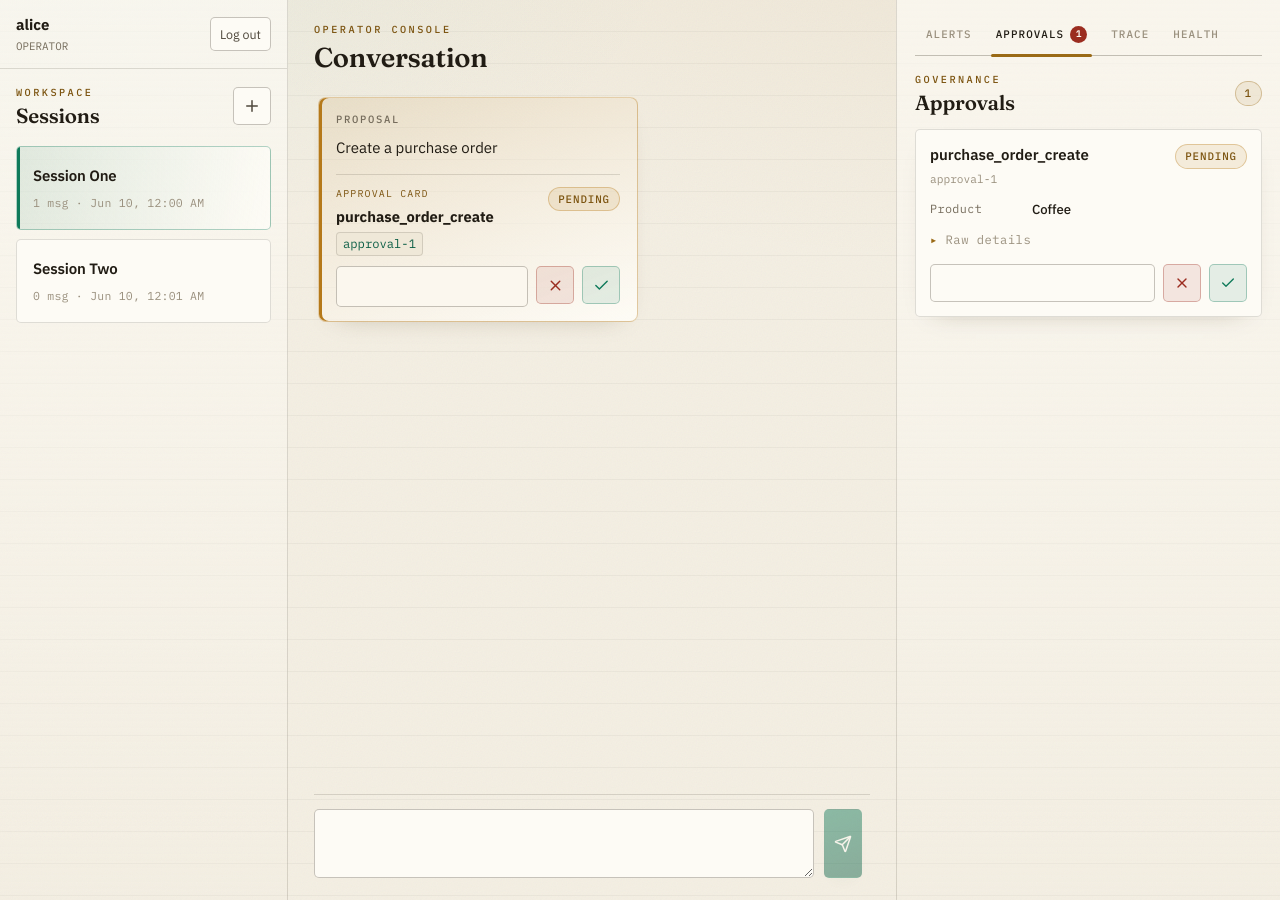
it: App › ignores stale approval reconciliation after switching sessions
The image size is (1280, 900).
Expected: the text "approval-1" is shown 2 times, [336, 232, 423, 256]; [930, 172, 997, 186]
What coordinates should you click on to do the following:
click the button named "Approve" below "Approval card"
I would click on:
 (601, 285)
Its box is [582, 266, 620, 304].
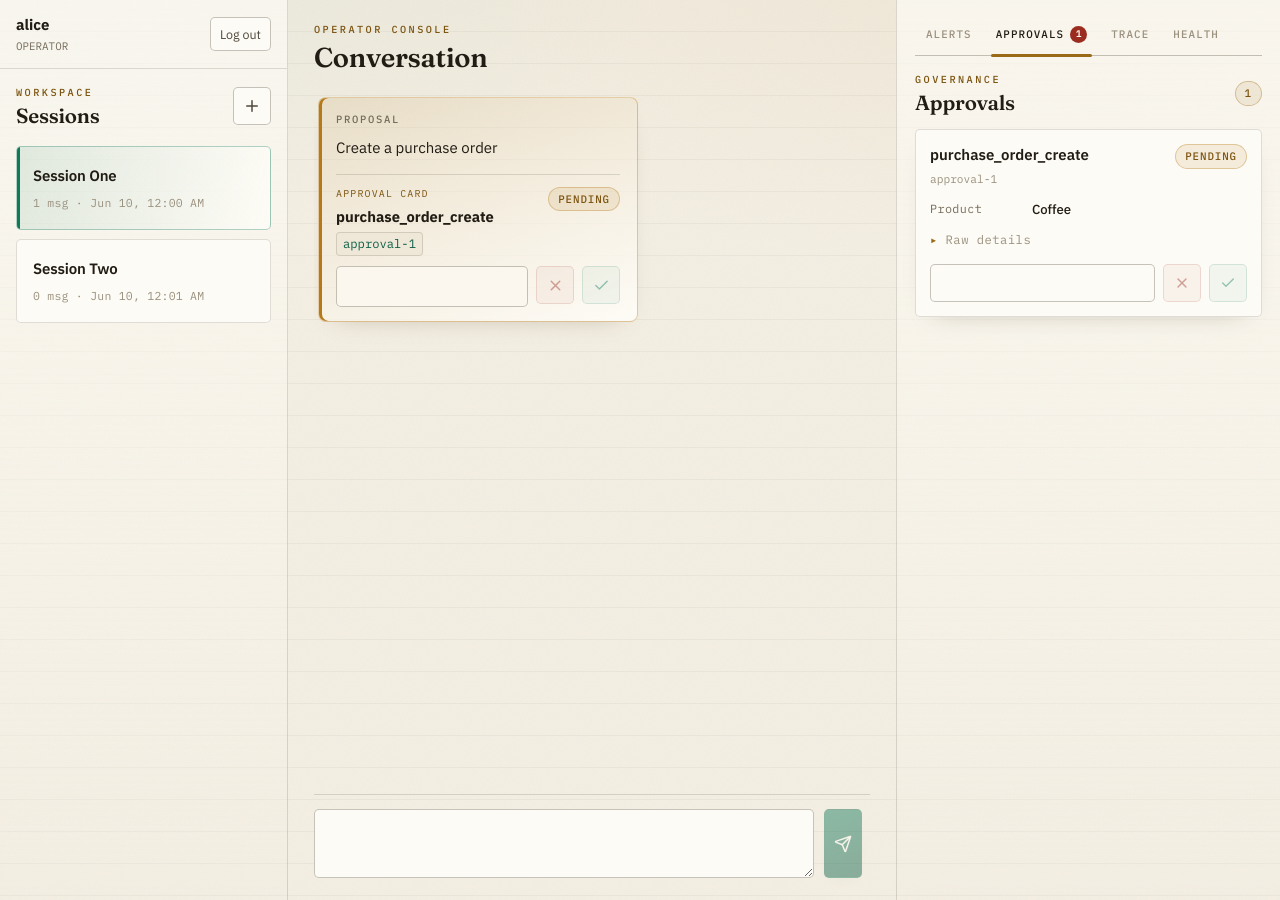
What coordinates should you click on to do the following:
click the button "Session Two 0 msg · Jun 10, 12:01 AM"
I would click on:
 (144, 281)
Its box is [16, 239, 271, 323].
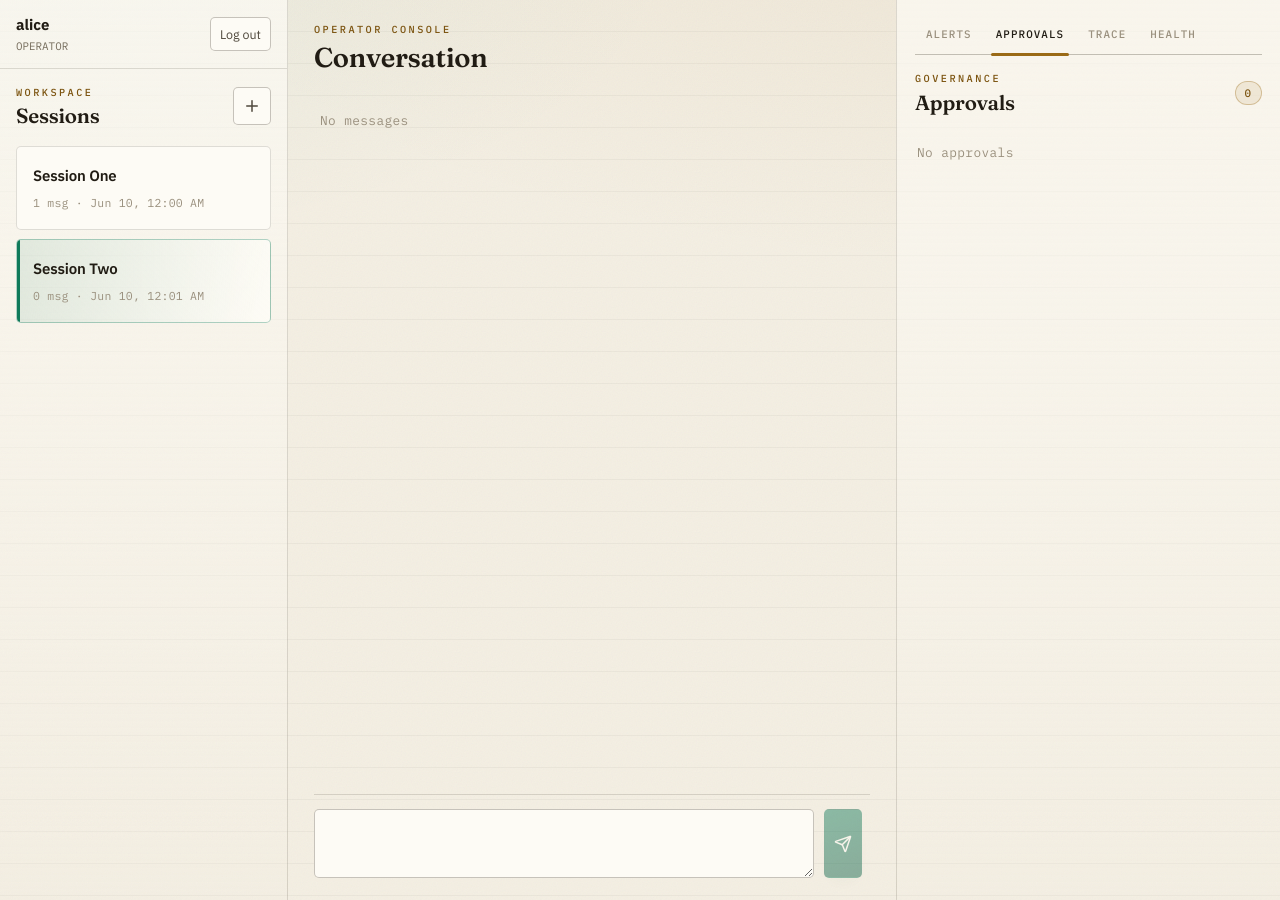
Result: the text "approval-1" is gone
